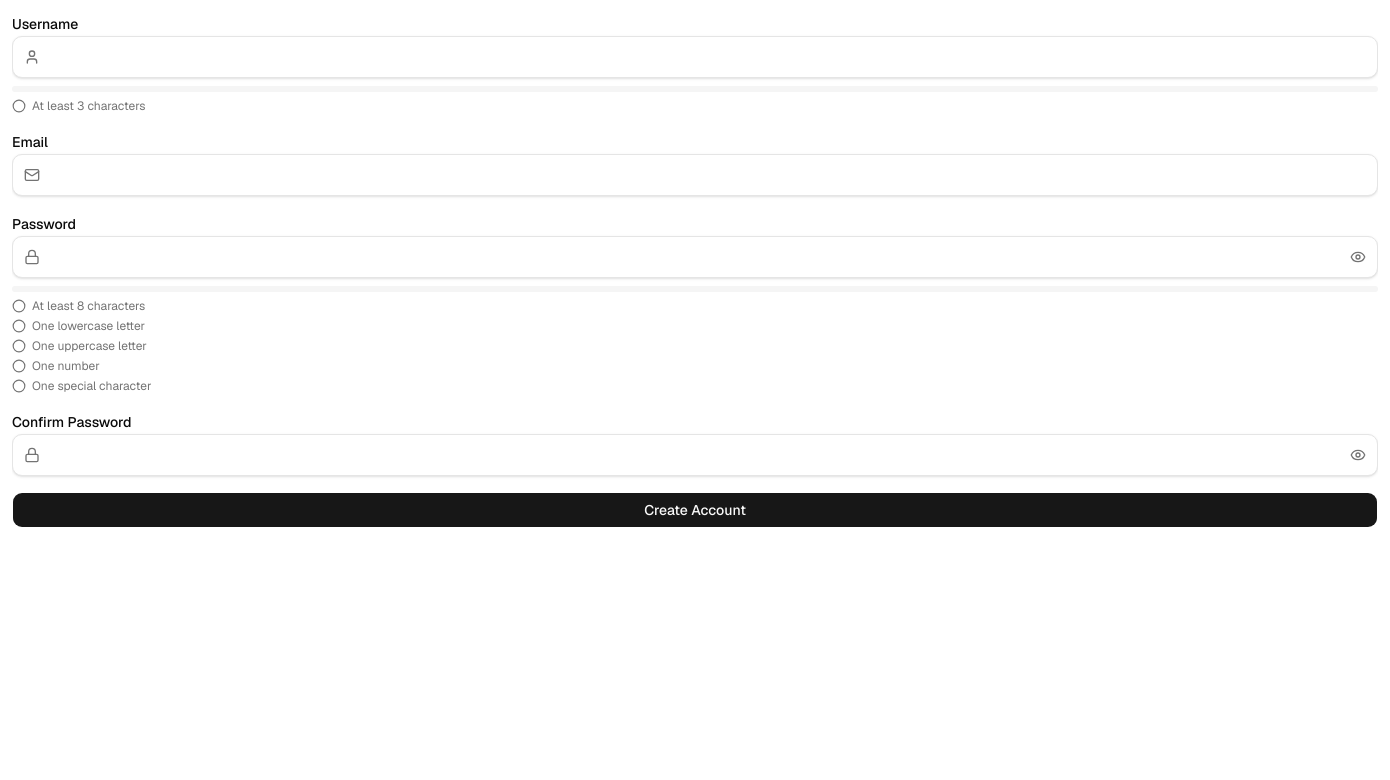
it: RegisterForm › tells the user when the confirm password matches
Type "Val1d!Pass" into the password field labelled "Password" at (695, 257), box [12,236,1378,278]
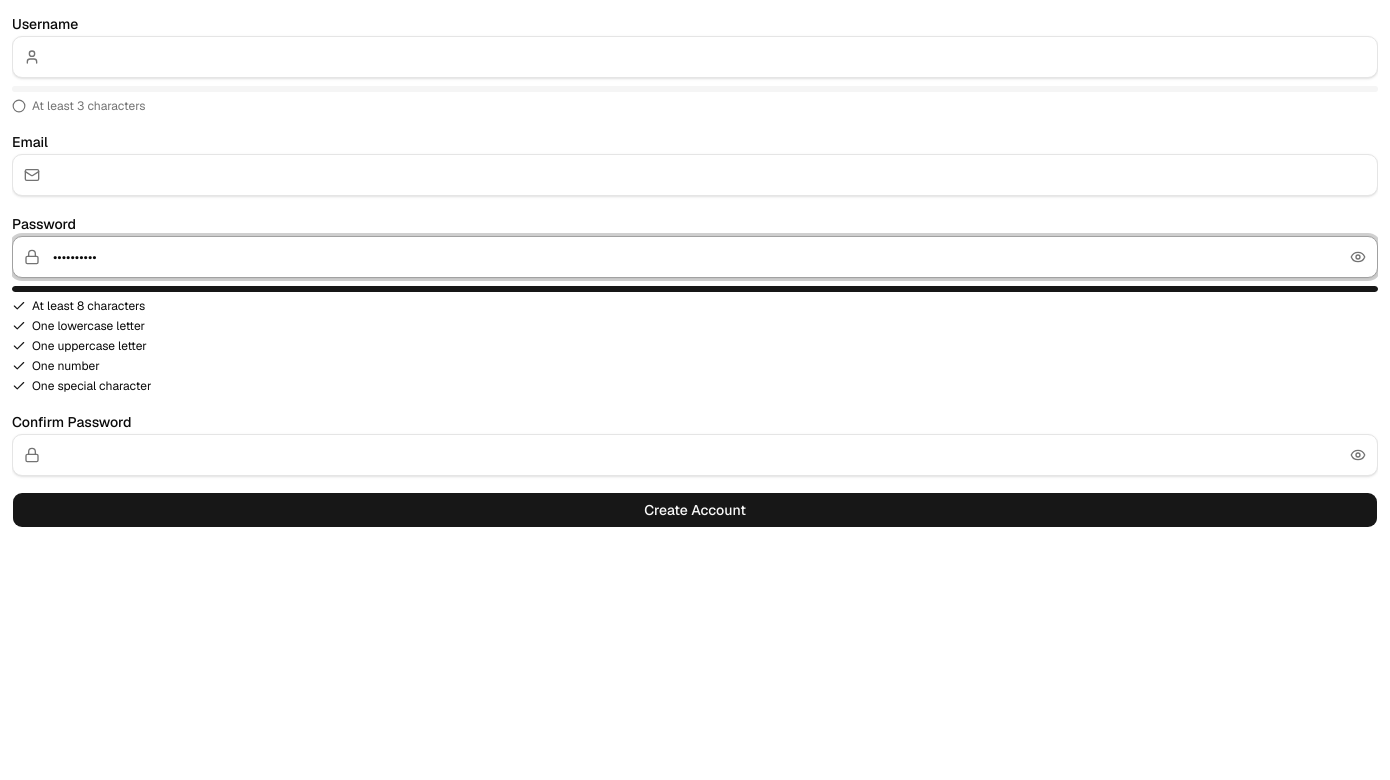
Type "Val1d!Pass" into the password field labelled "Confirm Password" at (695, 455), box [12,434,1378,476]
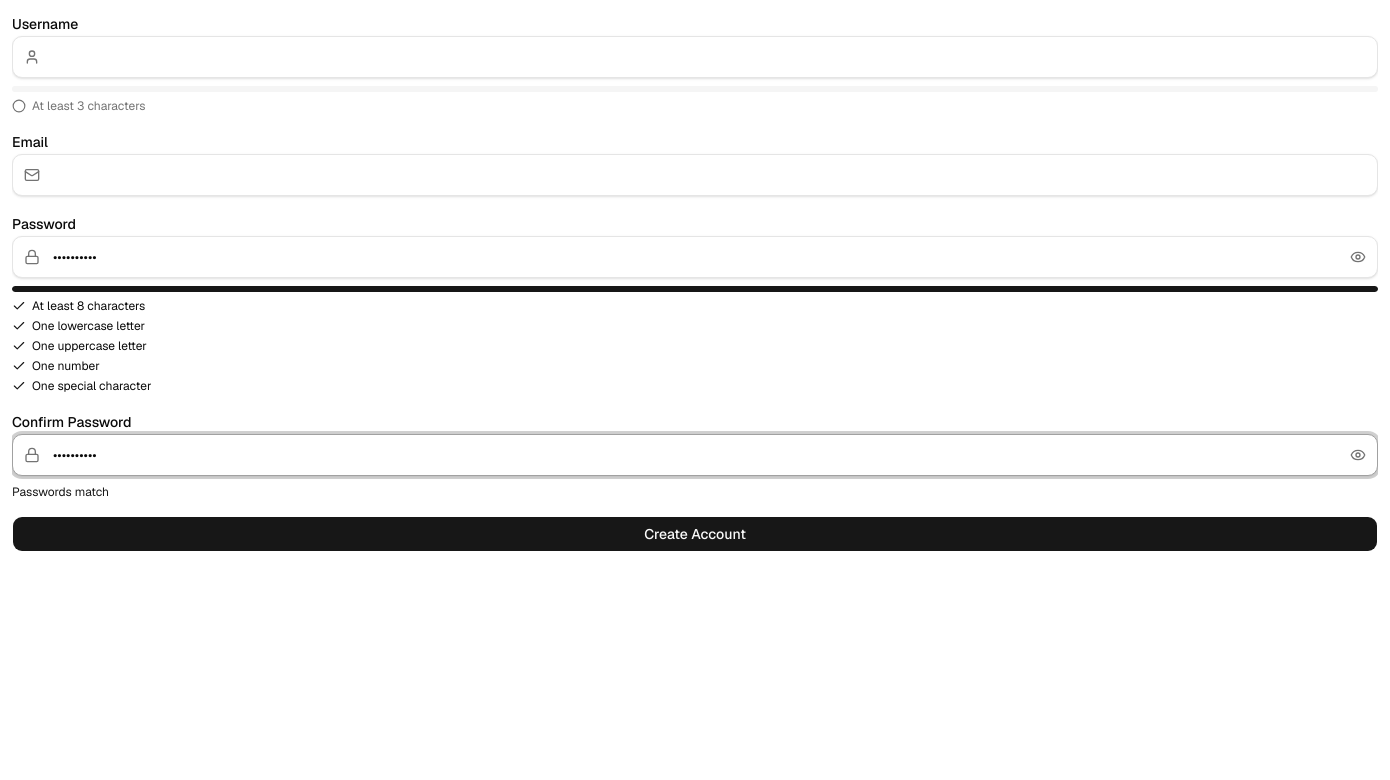
Expected: the text "Passwords match" is shown, [12,484,109,500]
